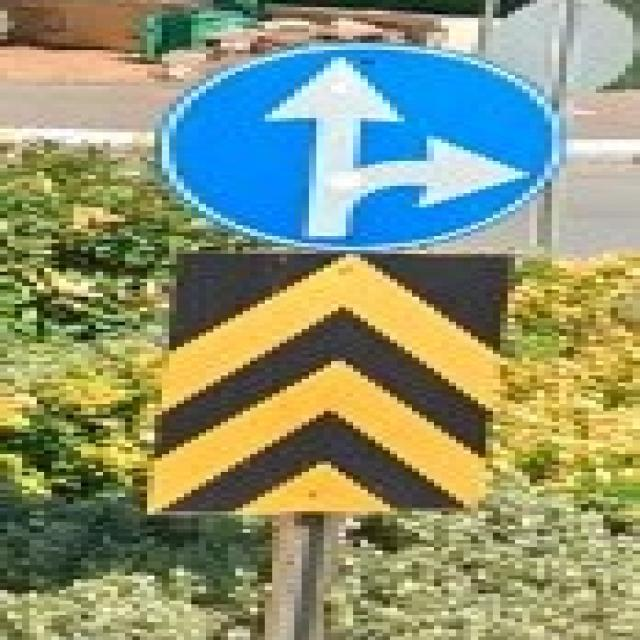Straight or Right: (159, 50, 549, 250)
